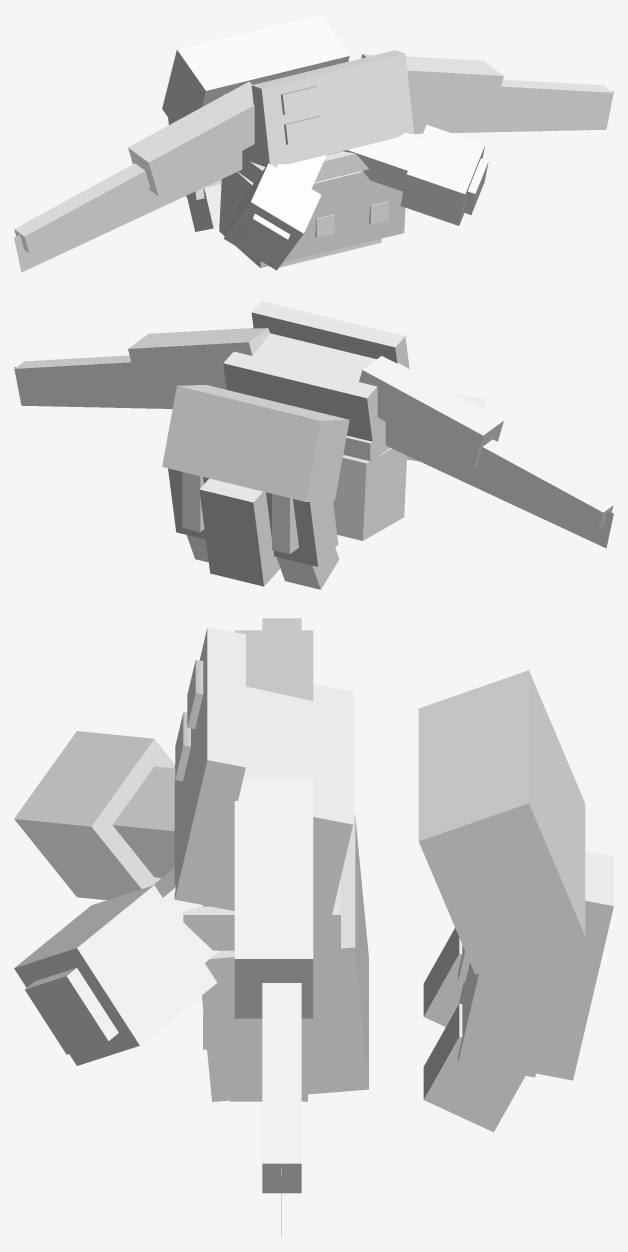
File: armoredjetpack.obj
The picture shows the model from 3 angles, top to bottom: view 1: azimuth 30°, elevation 25°; view 2: azimuth 150°, elevation 25°; view 3: azimuth 270°, elevation 25°; orthographic projection. The views are drawn at different scales.
Parts seen in each view (by area): view 1: Packtop, Chestplate, WingsupportL, Packbottom, Thrusterright, WingsupportR, Thrusterleft, WingbladeL, WingbladeR, ExtendosupportL, Fueltuberight, ExtendosupportR (+8 smaller); view 2: Chestplate, Packtoprear, WingsupportL, middleplate, WingsupportR, Packbottom, WingbladeL, Packtop, ExtendosupportL, WingbladeR, ExtendosupportR, Leftguardtop (+5 smaller); view 3: Chestplate, WingsupportR, Packbottom, Thrusterright, Thrusterleft, Packtoprear, Packtop, Rightguardtop, ExtendosupportR, middleplate, Fueltuberight, Rightguardbot (+6 smaller).
Part boxes in pixels (x1,y1,x2,y2): Packtop: (251,50,413,167); Chestplate: (162,14,349,123); WingsupportL: (128,82,254,196); Packbottom: (219,171,405,267); Thrusterright: (400,125,484,225); WingsupportR: (361,54,503,114); Thrusterleft: (223,163,321,270); WingbladeL: (14,151,242,272); WingbladeR: (411,91,613,133); ExtendosupportL: (14,163,150,253); Fueltuberight: (343,132,488,214); ExtendosupportR: (496,79,613,111); Chestplate: (162,384,349,501); Packtoprear: (223,333,385,441); WingsupportL: (359,356,503,469); middleplate: (199,478,280,586); WingsupportR: (128,328,269,387); Packbottom: (333,447,406,540); WingbladeL: (385,422,613,548); Packtop: (251,301,409,368); ExtendosupportL: (477,439,613,529); WingbladeR: (14,367,226,408); ExtendosupportR: (14,355,136,388); Leftguardtop: (266,492,338,566); Chestplate: (418,670,585,974); WingsupportR: (234,778,313,1018); Packbottom: (202,814,368,1101); Thrusterright: (14,885,217,1065); Thrusterleft: (14,731,174,900); Packtoprear: (213,684,353,928); Packtop: (174,627,245,906); Rightguardtop: (458,943,566,1077); ExtendosupportR: (262,983,301,1193); middleplate: (458,851,613,1080); Fueltuberight: (25,868,219,1054); Rightguardbot: (423,1003,525,1132).
Size of the model in its own units: 2.09 by 0.6671 by 0.953.
